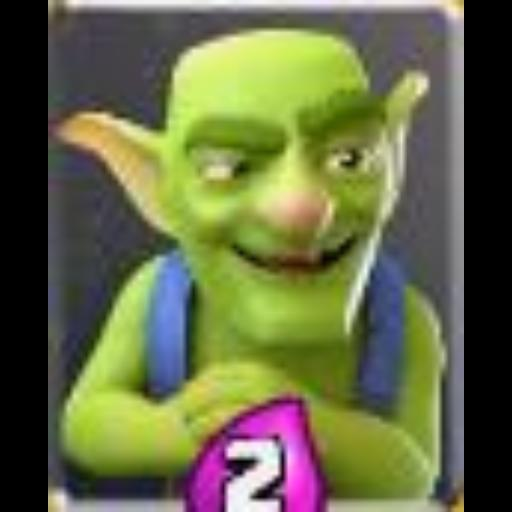goblins: (48, 0, 464, 512)
